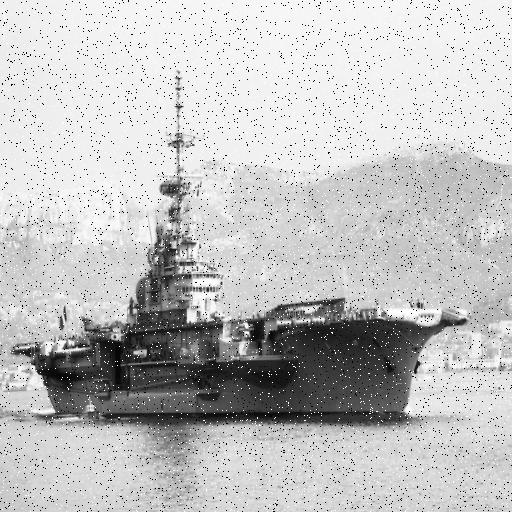Portanaves: (13, 65, 472, 423)
